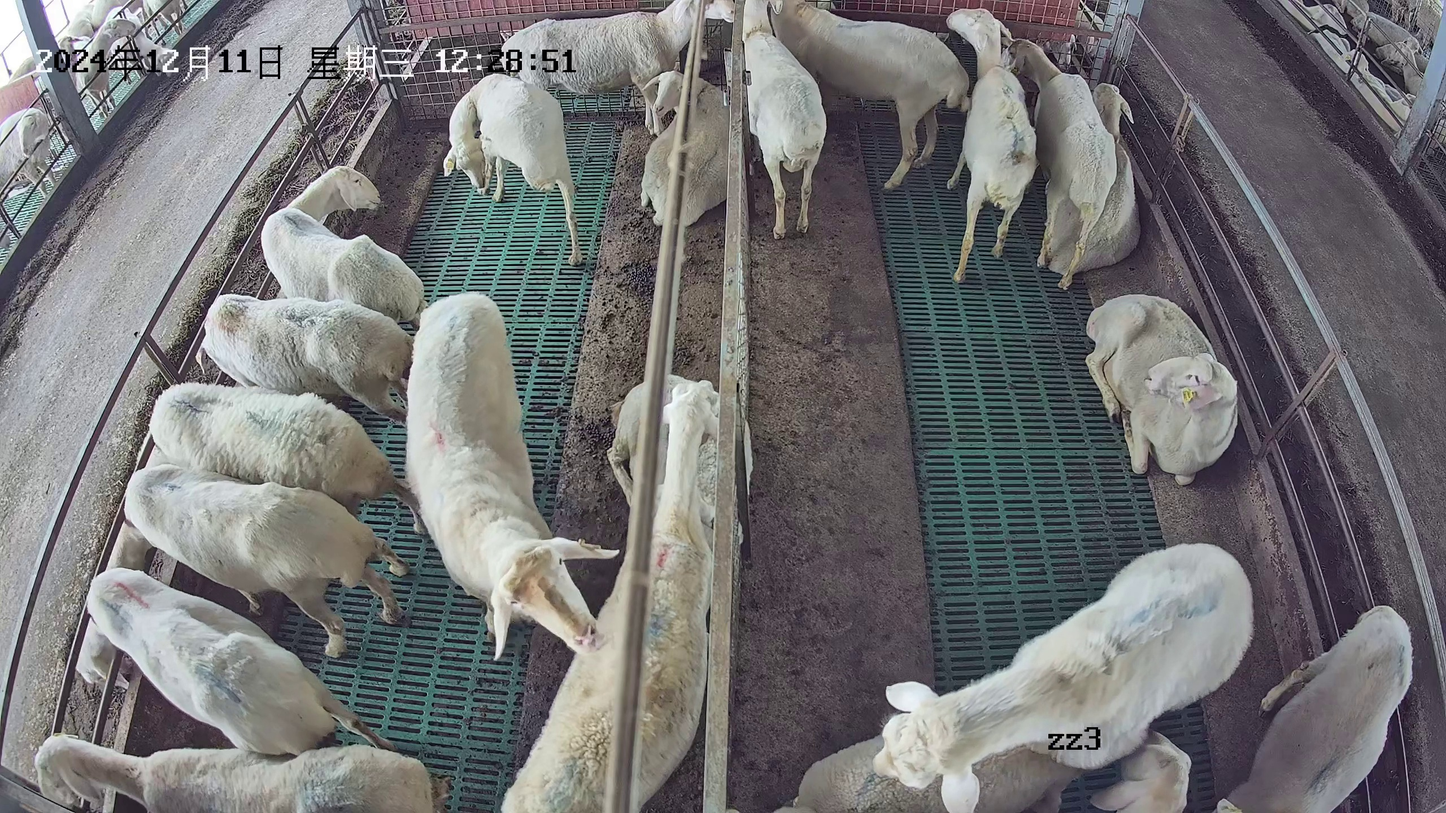Smounting: (783, 540, 1256, 813)
mounted: (786, 733, 1084, 813)
